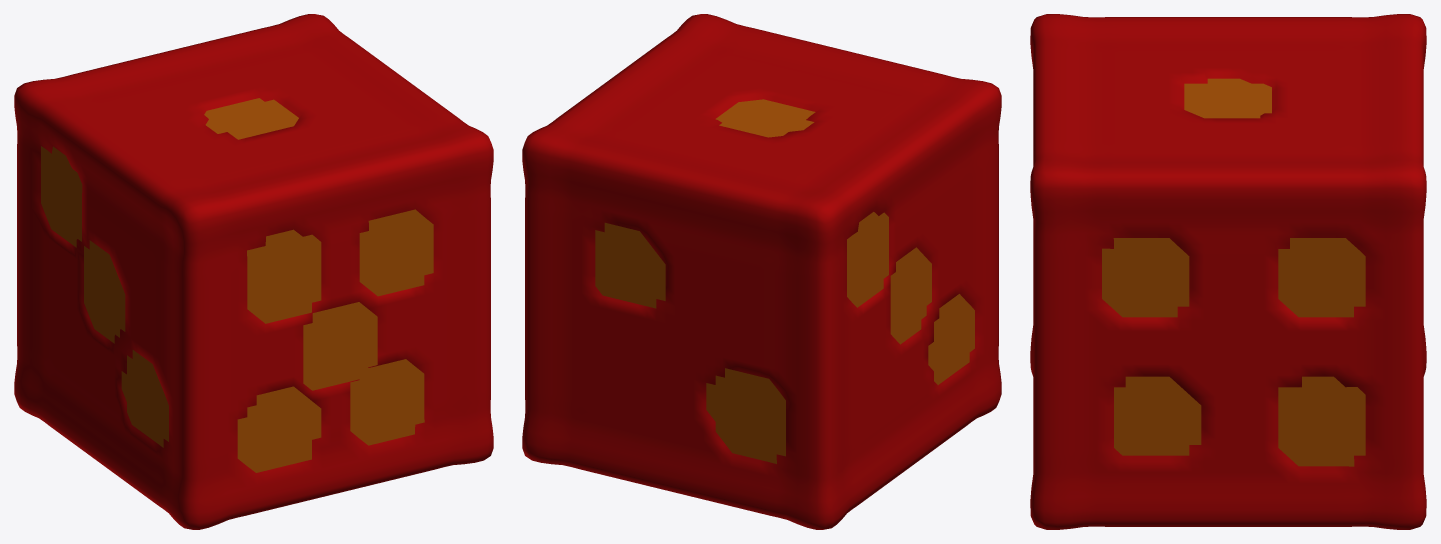
File: redcube.obj
The picture shows the model from 3 angles, left to right: view 1: azimuth 30°, elevation 25°; view 2: azimuth 150°, elevation 25°; view 3: azimuth 270°, elevation 25°; orthographic projection. The views are drawn at different scales.
Parts seen in each view (by area): view 1: HazeciKostkaLava_Plane.009; view 2: HazeciKostkaLava_Plane.009; view 3: HazeciKostkaLava_Plane.009.
Part boxes in pixels (left/top/right/bottom): HazeciKostkaLava_Plane.009: left=14, top=14, right=493, bottom=529; HazeciKostkaLava_Plane.009: left=522, top=14, right=1001, bottom=529; HazeciKostkaLava_Plane.009: left=1030, top=14, right=1426, bottom=529.
Size of the model in its own units: 1.08 by 1.08 by 1.08.
